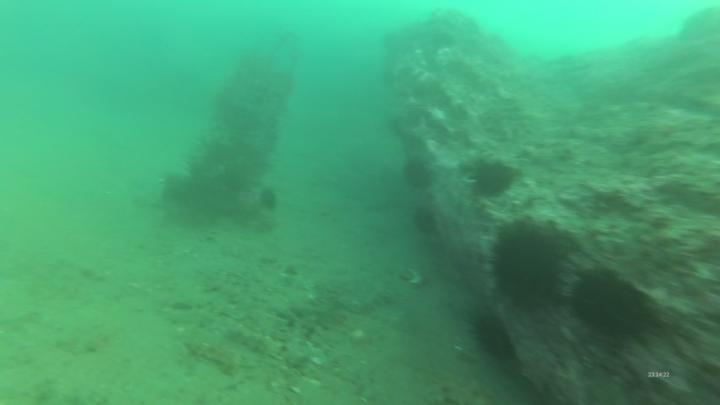echinus: (568, 263, 666, 354), (491, 222, 569, 308), (468, 309, 522, 365), (466, 160, 523, 200), (403, 158, 434, 192), (260, 186, 281, 216)
holothurian: (222, 322, 290, 362), (187, 338, 240, 375)
